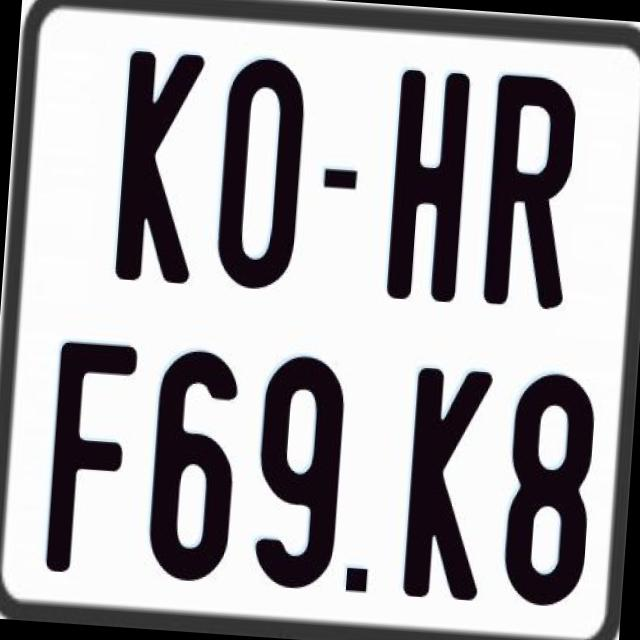0: (212, 50, 305, 288)
6: (142, 342, 242, 582)
8: (499, 368, 599, 612)
9: (247, 352, 347, 594)
F: (43, 337, 142, 581)
H: (383, 68, 471, 306)
K: (112, 49, 202, 284), (402, 363, 492, 597)
R: (483, 72, 583, 308)
